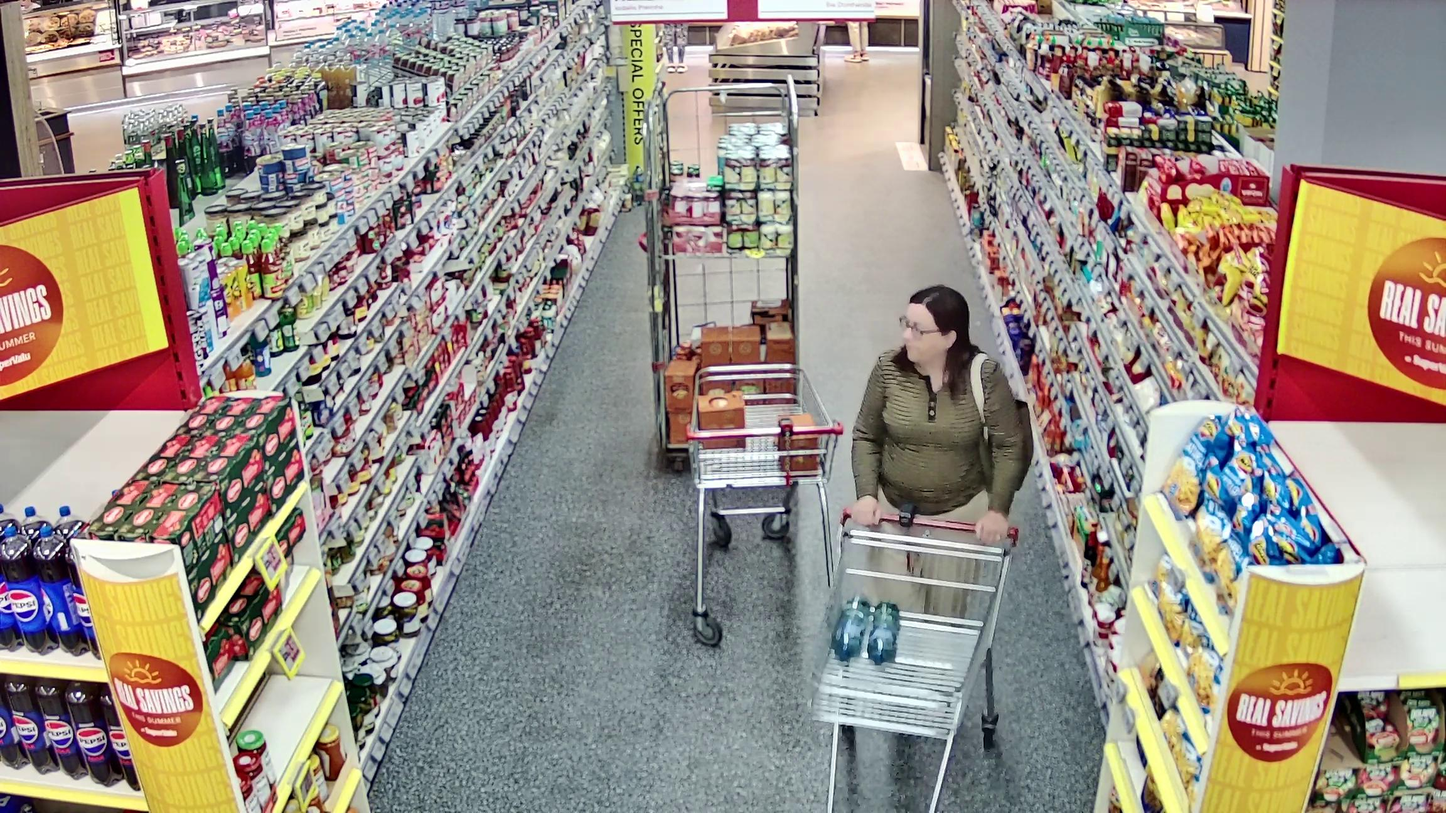backpack-or-handbag: (980, 397, 1035, 497)
filled-trolly: (802, 507, 1019, 813)
person: (853, 282, 1024, 538)
person-with-basket-trolly-and-backpack-handbag: (800, 281, 1032, 813)
